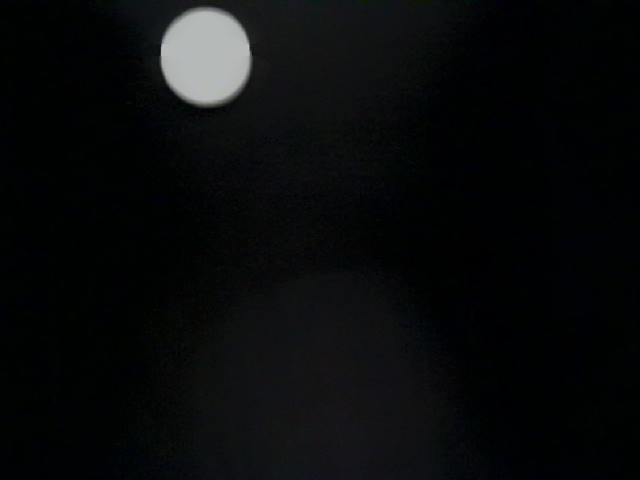YHLJ: (431, 291, 551, 354)
